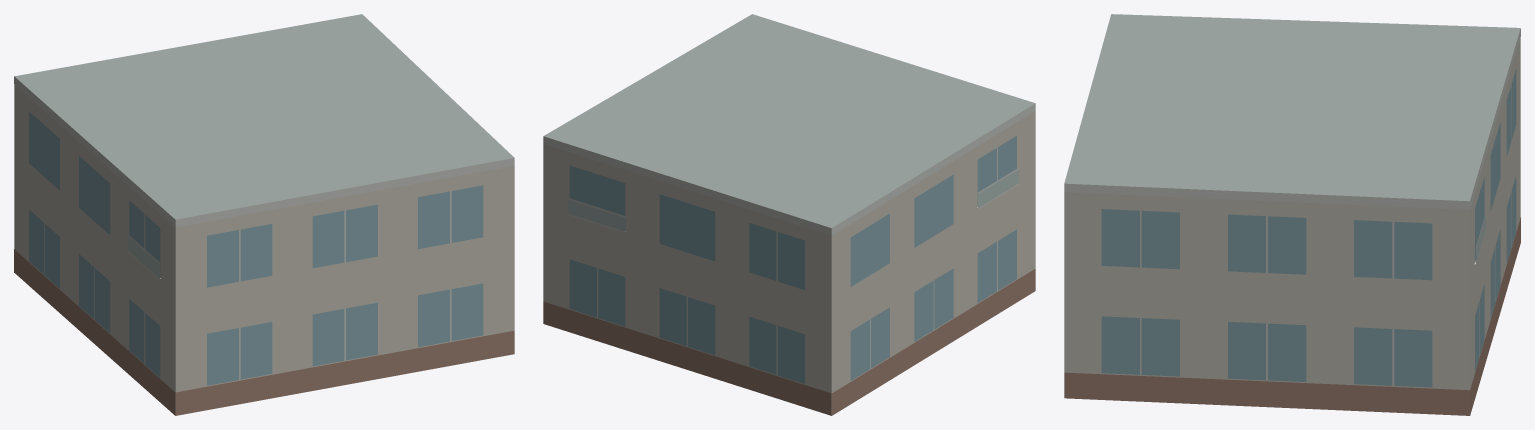
Rendered from survey-upis-33022972.glb.
3 renders of one model, left to right at view 1: azimuth 30°, elevation 25°; view 2: azimuth 150°, elevation 25°; view 3: azimuth 270°, elevation 25°, orthographic. The views are drawn at different scales.
Parts seen in each view (by area): view 1: survey-upis-33022972.tmp; view 2: survey-upis-33022972.tmp; view 3: survey-upis-33022972.tmp.
Part boxes in pixels (x1,y1,x2,y2): survey-upis-33022972.tmp: (14, 14, 514, 415); survey-upis-33022972.tmp: (543, 14, 1035, 415); survey-upis-33022972.tmp: (1064, 14, 1520, 415).
Size of the model in its own units: 11.42 by 6.1 by 11.77.
